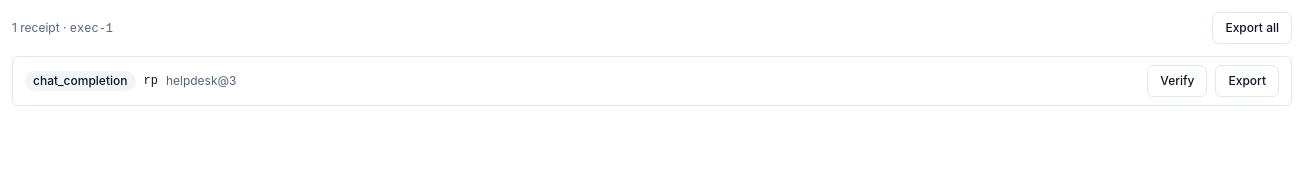
Test case: ReceiptsPanel › invalid signature is surfaced
Click the button "Verify": (1177, 81) x1=1147 y1=65 x2=1207 y2=97
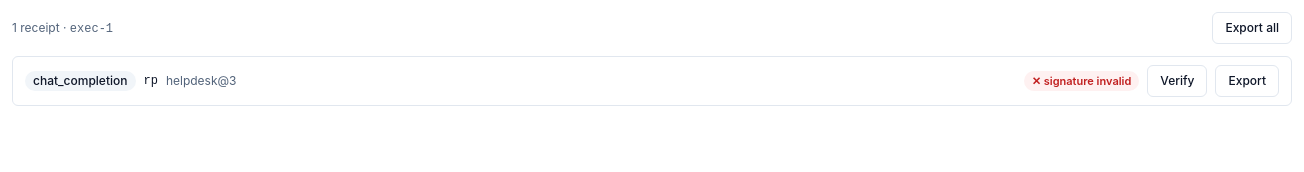
Check: the text "✕ signature invalid" is shown, box x1=1024 y1=71 x2=1139 y2=91
